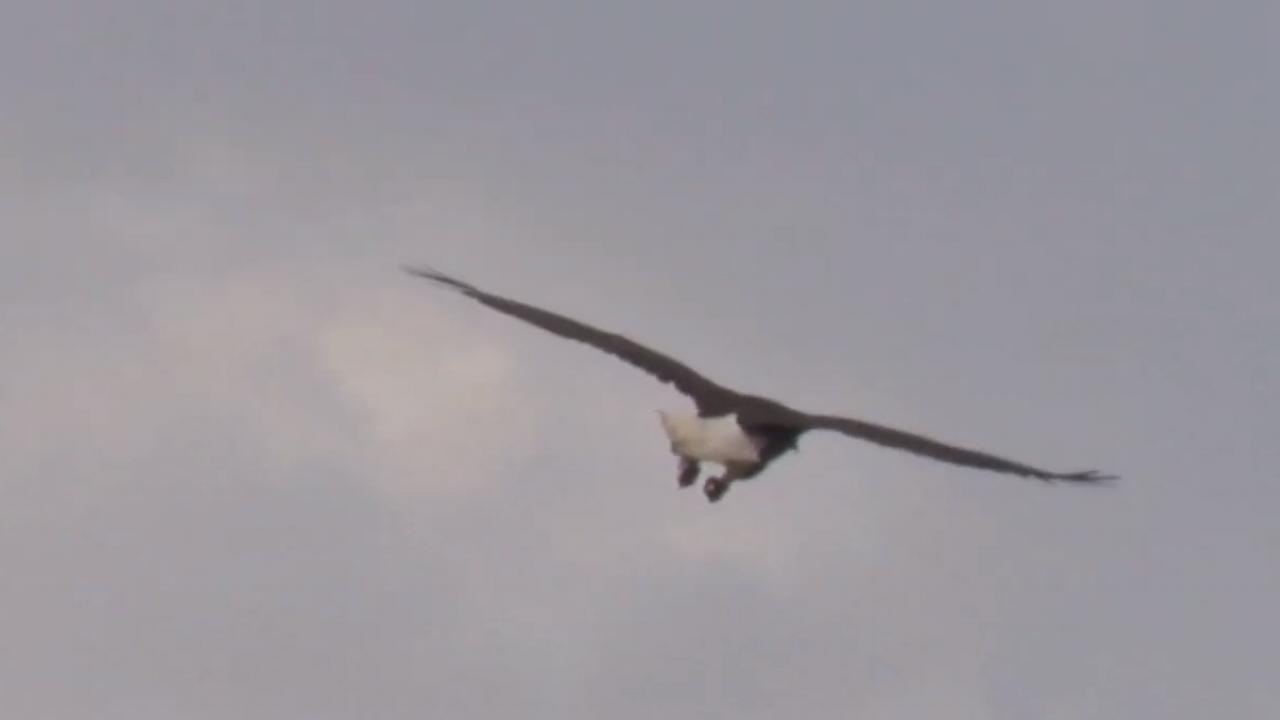Bird: (378, 251, 1130, 537)
